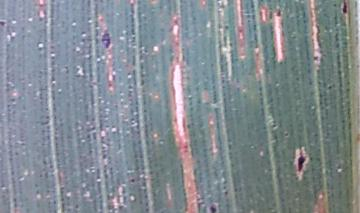tarspot: (291, 144, 310, 182), (99, 26, 113, 53), (339, 1, 352, 17), (206, 201, 221, 213), (274, 5, 284, 20), (312, 52, 321, 66), (128, 176, 138, 187), (1, 17, 9, 30), (325, 83, 334, 92)
